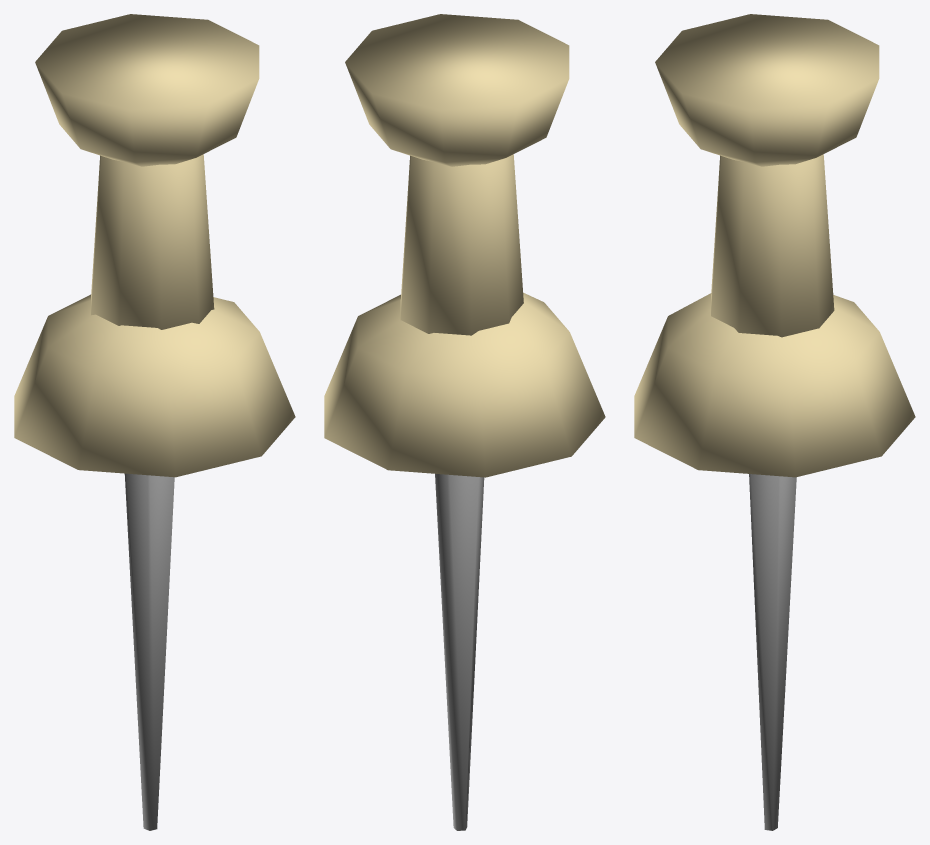
File: Pinv2.fbx
3 views of the same model, side by side, from view 1: azimuth 30°, elevation 25°; view 2: azimuth 150°, elevation 25°; view 3: azimuth 270°, elevation 25° (orthographic).
Visible parts, largest first — view 1: Body, Pin; view 2: Body, Pin; view 3: Body, Pin.
Boxes of the visible parts, x1,y1,x2,y2 form: Body: (14,14,295,477); Pin: (124,473,174,830); Body: (324,14,605,477); Pin: (435,473,484,830); Body: (634,14,915,477); Pin: (749,474,796,830).
Size of the model in its own units: 41.04 by 121 by 40.41.
